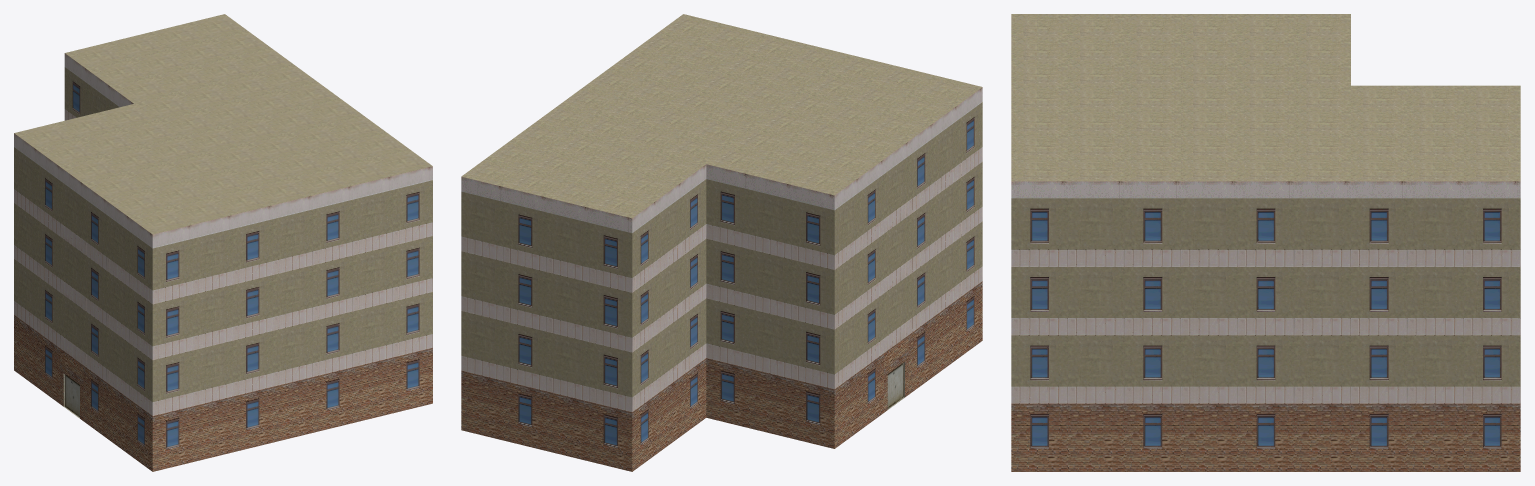
File: flat_Lshape.glb
3 views of the same model, side by side, from view 1: azimuth 30°, elevation 25°; view 2: azimuth 150°, elevation 25°; view 3: azimuth 270°, elevation 25° (orthographic). The views are drawn at different scales.
Visible parts, largest first — view 1: flat_Lshape; view 2: flat_Lshape; view 3: flat_Lshape.
Boxes of the visible parts, x1,y1,x2,y2 form: flat_Lshape: (14,14,432,471); flat_Lshape: (461,14,982,471); flat_Lshape: (1011,14,1520,471).
Size of the model in its own units: 21 by 17 by 27.
Materials: 1 (1 with a texture image).
